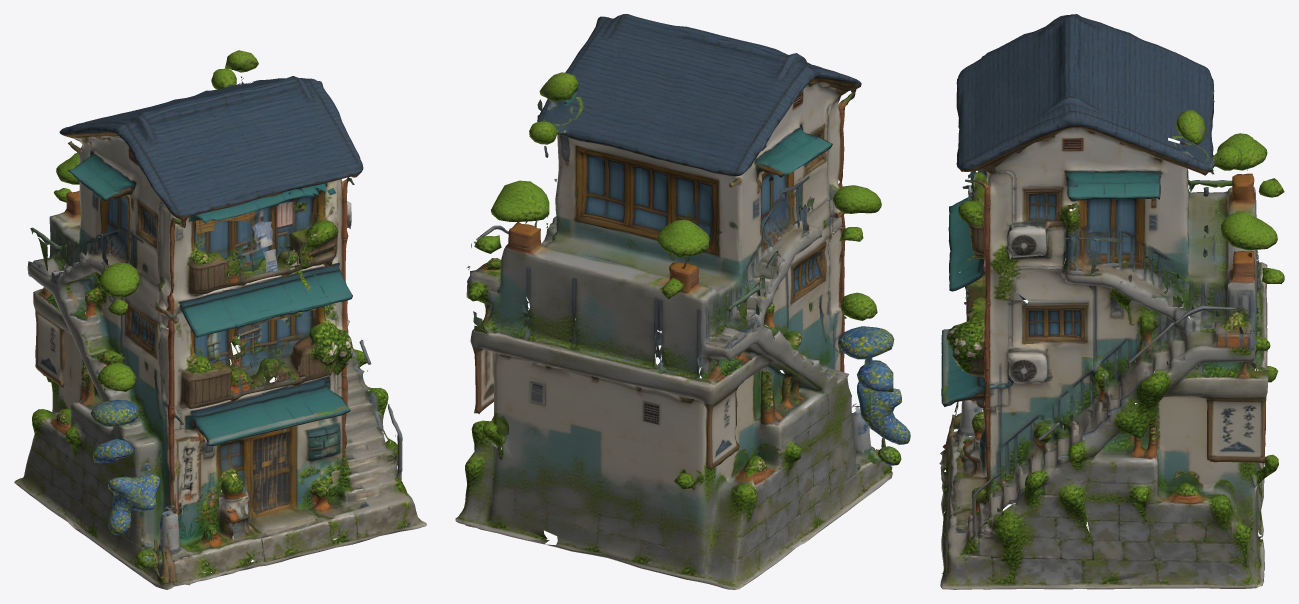
Rendered from building15f.glb.
3 renders of one model, left to right at view 1: azimuth 30°, elevation 25°; view 2: azimuth 150°, elevation 25°; view 3: azimuth 270°, elevation 25°, orthographic. The views are drawn at different scales.
Visible parts, largest first — view 1: tripo_node_fd02659f; view 2: tripo_node_fd02659f; view 3: tripo_node_fd02659f.
Boxes of the visible parts, <box> form: tripo_node_fd02659f: <box>14,50,426,589</box>; tripo_node_fd02659f: <box>455,14,910,589</box>; tripo_node_fd02659f: <box>939,14,1284,589</box>.
Bounding box in the file's own units: 72.44 × 99.74 × 66.69.
Materials: 1 (1 with a texture image).
